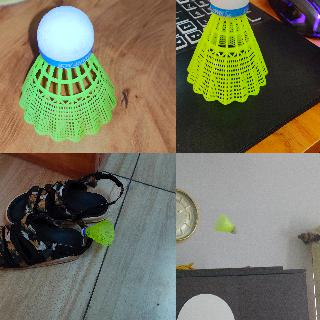shuttlecock: (19, 4, 116, 142), (189, 0, 268, 104), (80, 218, 114, 246), (215, 214, 237, 233)
